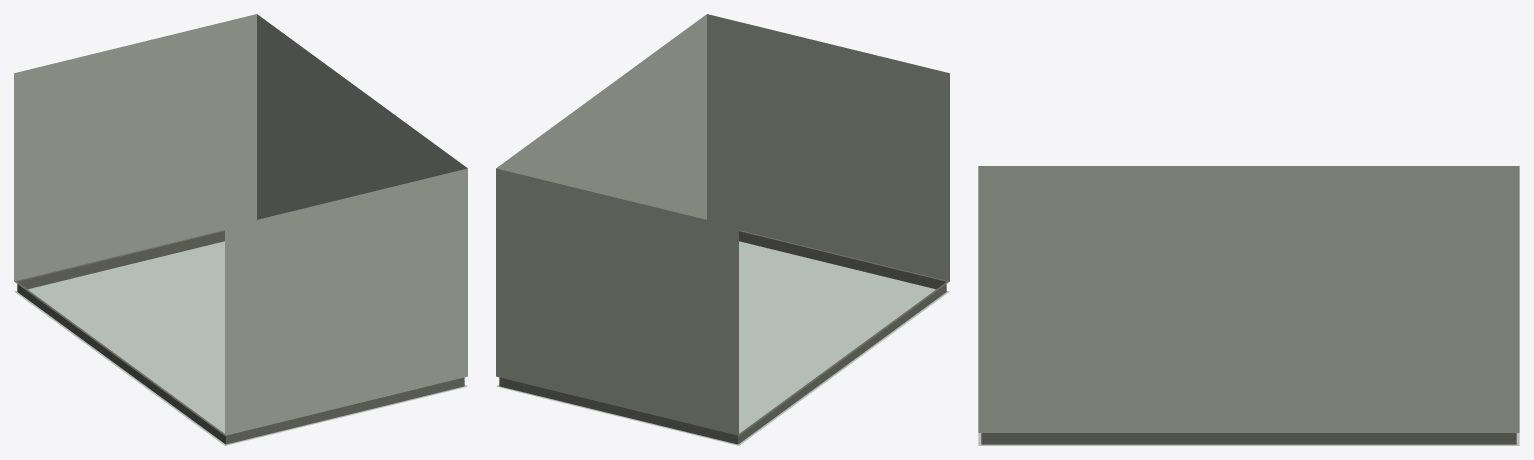
File: DoctorsOffice.fbx
3 renders of one model, left to right at view 1: azimuth 30°, elevation 25°; view 2: azimuth 150°, elevation 25°; view 3: azimuth 270°, elevation 25°, orthographic. The views are drawn at different scales.
Parts seen in each view (by area): view 1: Cube; view 2: Cube; view 3: Cube.
Part boxes in pixels (x1,y1,x2,y2): Cube: (14, 14, 467, 445); Cube: (496, 14, 949, 445); Cube: (978, 166, 1519, 445).
Size of the model in its own units: 400 by 343 by 602.
